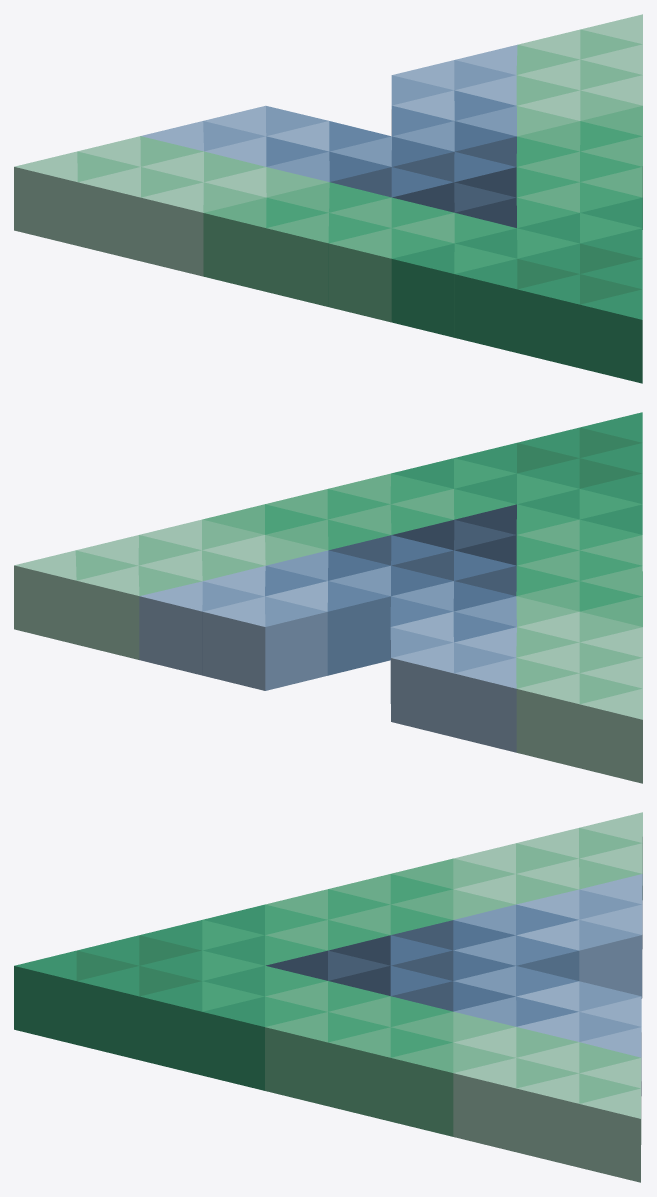
File: vue.glb
3 views of the same model, one above another, from view 1: azimuth 30°, elevation 25°; view 2: azimuth 150°, elevation 25°; view 3: azimuth 270°, elevation 25° (orthographic).
Visible parts, largest first — view 1: a1, Plane.078, Plane.074, Plane.083, Plane.088, Plane.062, a17, Plane.096, Plane.071, Plane.040, Plane.090, Plane.014 (+84 smaller); view 2: a3, a1, t29, a6, a8, a4, a5, a7, a16, a2, a15, a14 (+84 smaller); view 3: Plane.079, Plane.094, t24, Plane.089, Plane.076, Plane.096, Plane.086, Plane.084, Plane.081, a2, a15, t28 (+84 smaller).
Boxes of the visible parts, x1,y1,x2,y2 form: a1: (14,151,77,245); Plane.078: (454,259,517,352); Plane.074: (391,243,454,337); Plane.083: (328,228,391,322); Plane.088: (203,197,266,291); Plane.062: (141,182,203,276); a17: (78,167,140,261); Plane.096: (580,289,642,383); Plane.071: (266,213,328,306); Plane.040: (517,274,579,368); Plane.090: (203,182,265,276); Plane.014: (454,243,516,337); a3: (516,673,579,767); a1: (579,688,642,783); t29: (327,581,390,675); a6: (139,581,202,675); a8: (202,596,265,690); a4: (76,565,139,659); a5: (454,658,516,752); a7: (391,642,453,737); a16: (265,596,327,690); a2: (14,550,76,644); a15: (390,627,453,703); a14: (202,581,264,675); Plane.079: (139,981,202,1075); Plane.094: (453,1058,516,1151); t24: (516,1073,579,1167); Plane.089: (390,1042,453,1136); Plane.076: (76,966,139,1059); Plane.096: (14,950,76,1044); Plane.086: (328,1027,390,1121); Plane.084: (265,1012,327,1106); Plane.081: (202,996,264,1090); a2: (579,1088,640,1182); a15: (579,920,641,998); t28: (516,935,579,980).
Bounding box in the file's own units: 3.57 × 0.3464 × 3.09.
